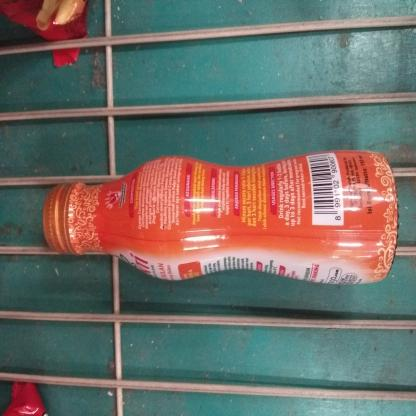glass: (40, 148, 397, 284)
